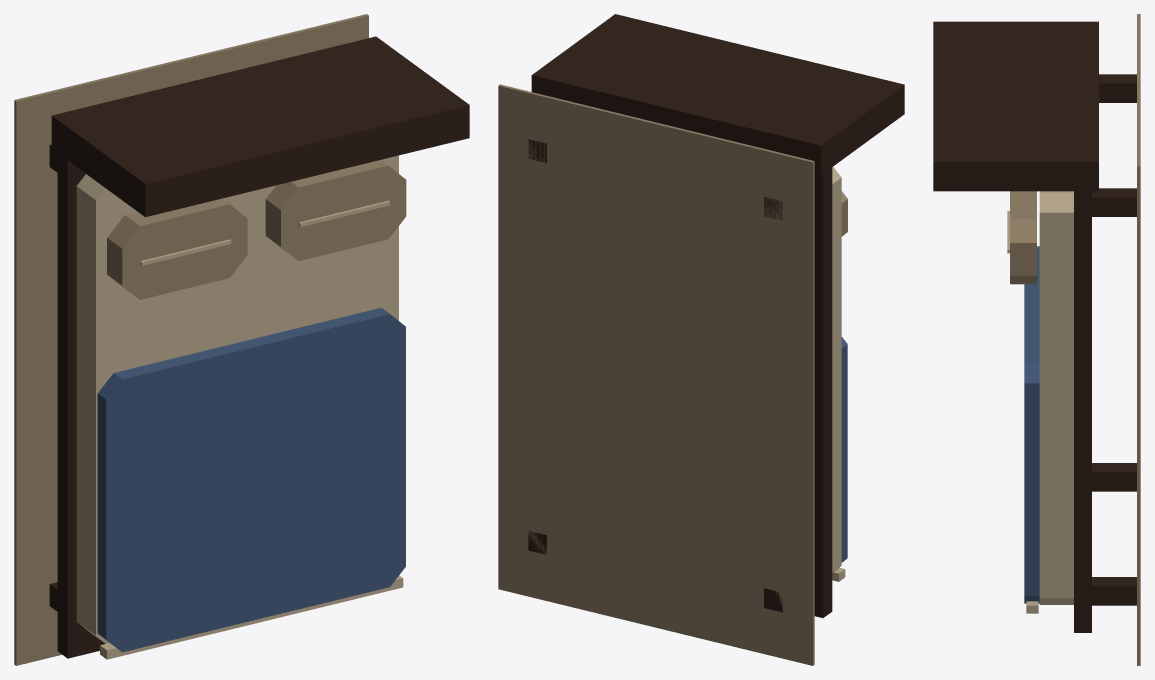
Rendered from SM_BSW_Department_BedVignette_B.obj.
3 views of the same model, side by side, from view 1: azimuth 30°, elevation 25°; view 2: azimuth 150°, elevation 25°; view 3: azimuth 270°, elevation 25° (orthographic). The views are drawn at different scales.
Visible parts, largest first — view 1: SM_BSW_Department_BedVignette_B; view 2: SM_BSW_Department_BedVignette_B; view 3: SM_BSW_Department_BedVignette_B.
Boxes of the visible parts, box(x1,y1,x2,y2) form: SM_BSW_Department_BedVignette_B: box(14, 14, 469, 665); SM_BSW_Department_BedVignette_B: box(498, 14, 904, 665); SM_BSW_Department_BedVignette_B: box(933, 14, 1140, 665).
Bounding box in the file's own units: 200 × 306 × 115.
